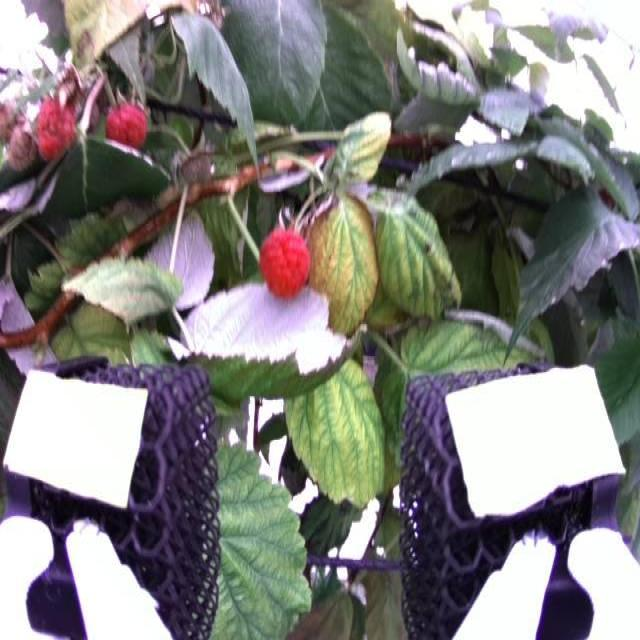Riped berries: (254, 225, 313, 300), (105, 90, 153, 150), (36, 95, 78, 154)
